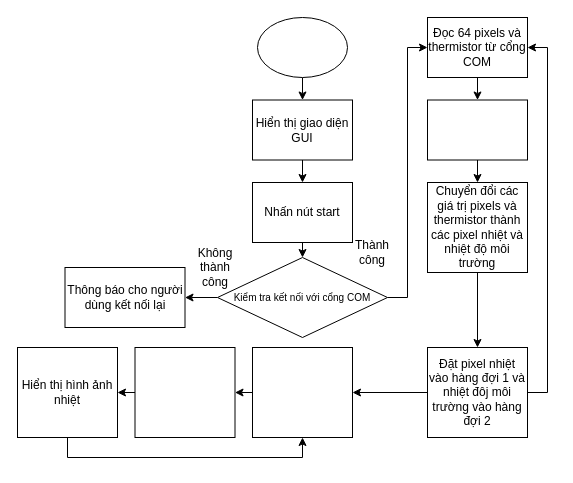
This 573x483 diagram has some shape labels left out. Here are the shapes that lost their labels. From the top down, the box of each, then its label:
(256, 16, 348, 78): Bắt đầu
(426, 99, 528, 160): Nội suy 8x8 pixels thành 113x113 pixels
(134, 346, 235, 438): Chuyển các pixel nhiệt sang không gian màu RGB
(252, 346, 352, 438): Lấy các giá trị pixel nhiệt và nhiệt độ môi trường ra khỏi hàng đợi
